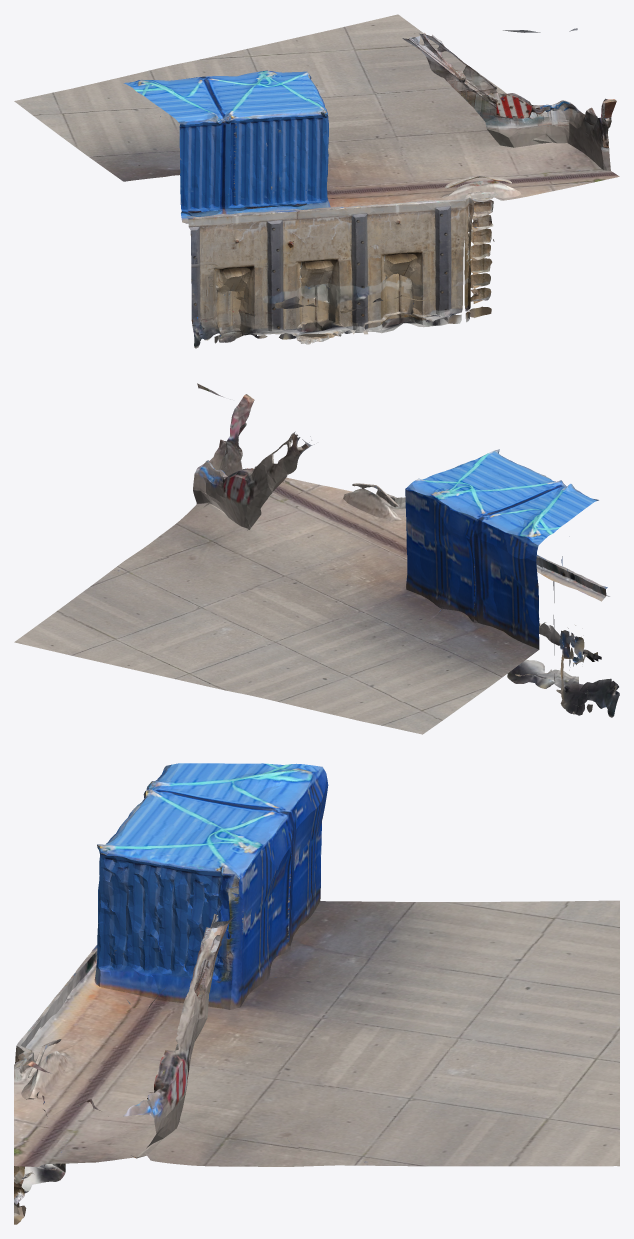
3 views of the same model, one above another, from view 1: azimuth 30°, elevation 25°; view 2: azimuth 150°, elevation 25°; view 3: azimuth 270°, elevation 25° (orthographic). The views are drawn at different scales.
Bounding box in the file's own units: 8.36 × 4.8 × 8.36.
Materials: 4 (4 with a texture image).
